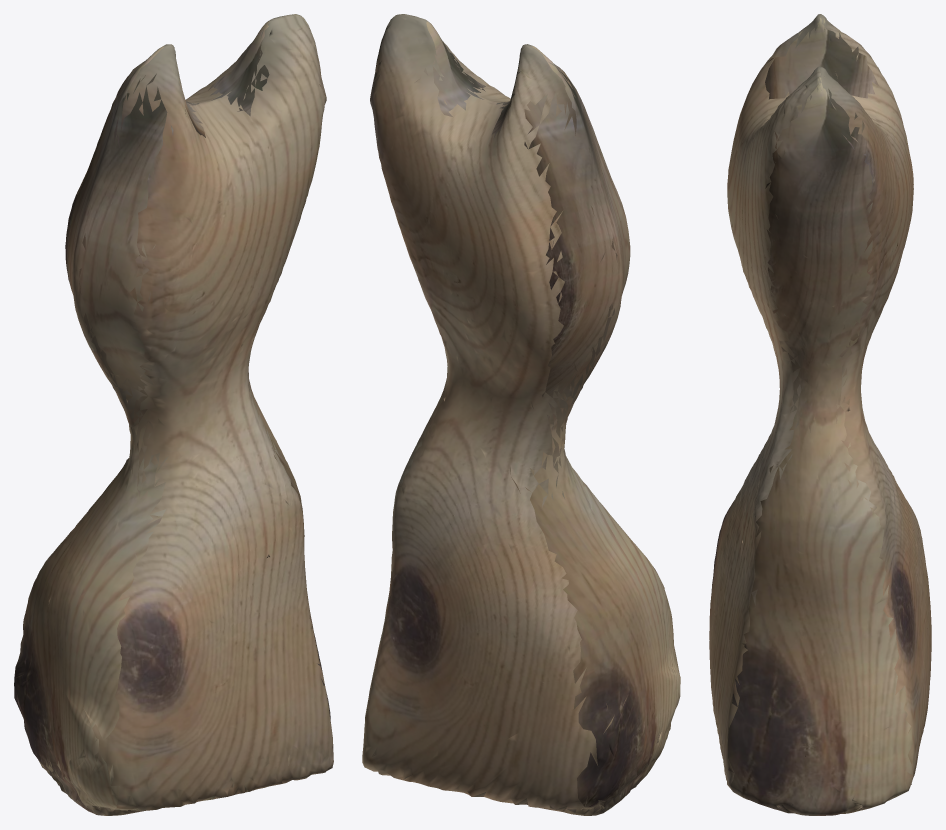
Rendered from hy3d-bifurcada.glb.
3 views of the same model, side by side, from view 1: azimuth 30°, elevation 25°; view 2: azimuth 150°, elevation 25°; view 3: azimuth 270°, elevation 25° (orthographic).
Visible parts, largest first — view 1: world; view 2: world; view 3: world.
Part boxes in pixels (x1=…): world: x1=14, y1=14, x2=333, y2=815; world: x1=362, y1=14, x2=680, y2=815; world: x1=709, y1=14, x2=931, y2=815.
Bounding box in the file's own units: 0.4327 × 1.18 × 0.322.
Materials: 1 (1 with a texture image).
